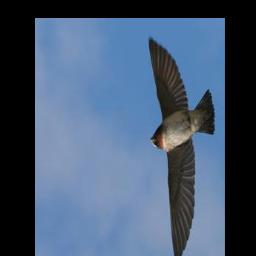Swallow: (148, 38, 215, 256)
